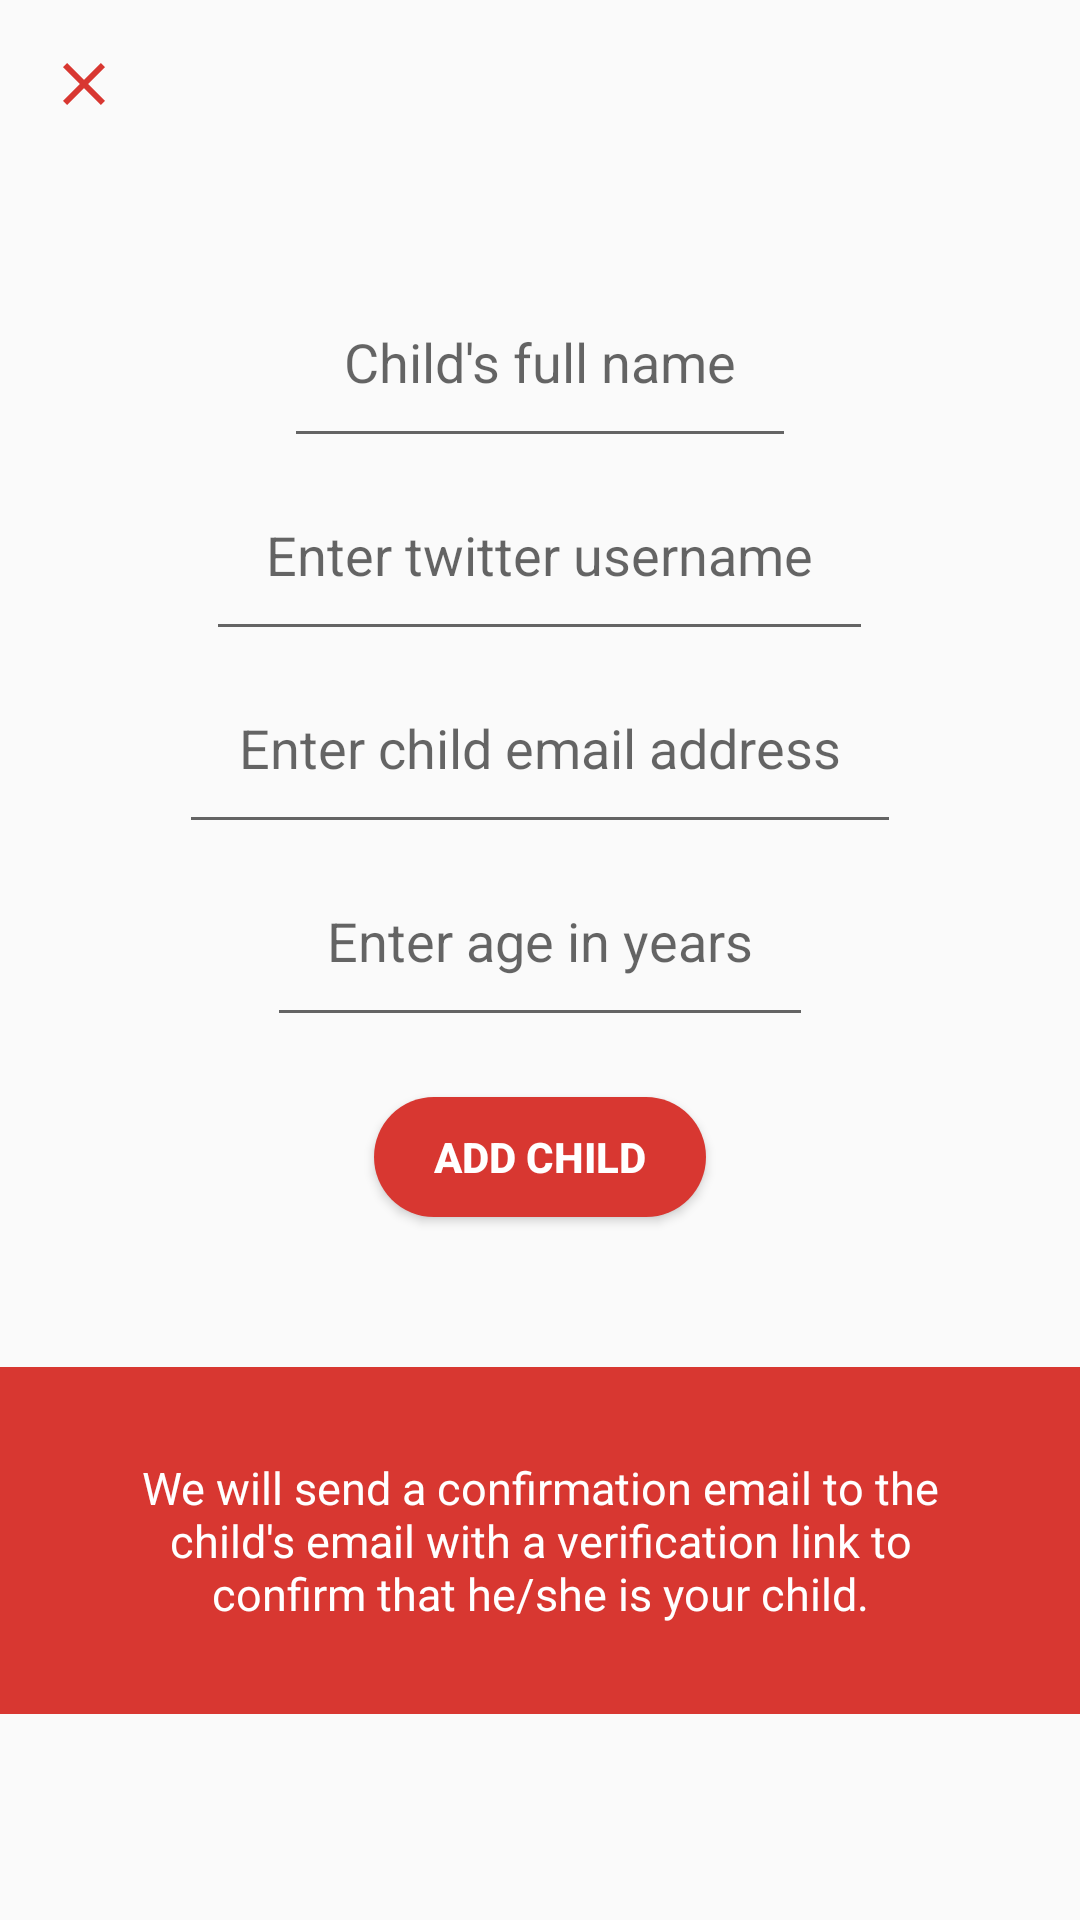

Icon bounding boxes for this 1080*1920 phone screenshot, format detection(x1, y1, x2, y2):
close: detection(63, 63, 105, 105)
